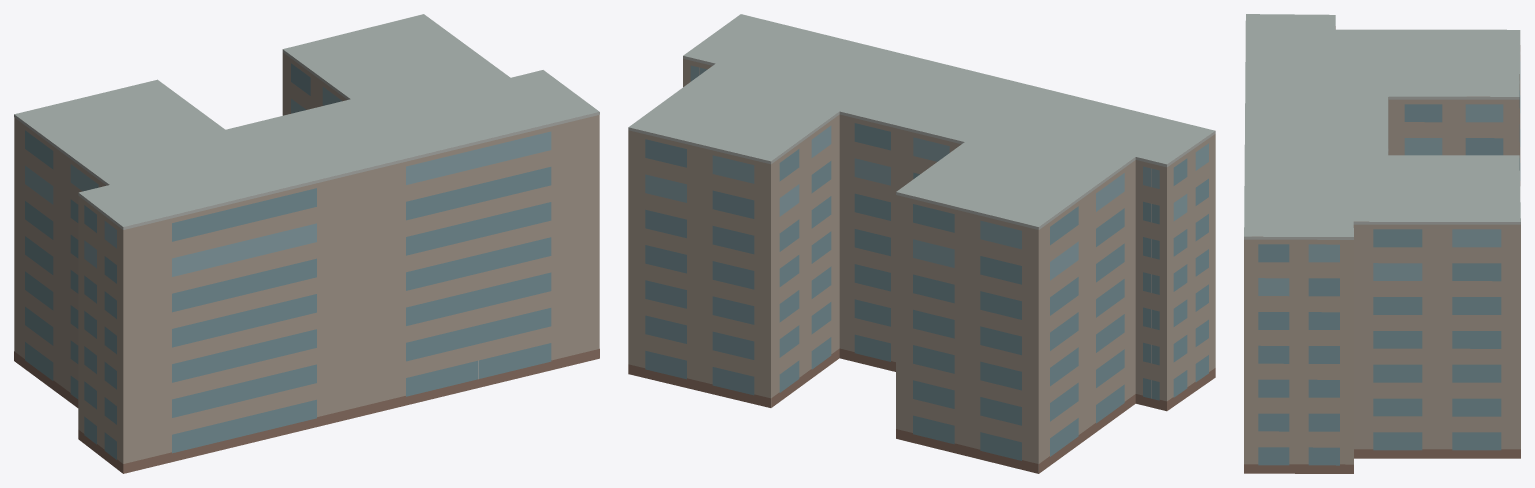
The model's file is survey-upis-32745602.glb.
The picture shows the model from 3 angles, left to right: view 1: azimuth 30°, elevation 25°; view 2: azimuth 150°, elevation 25°; view 3: azimuth 270°, elevation 25°; orthographic projection. The views are drawn at different scales.
Visible parts, largest first — view 1: survey-upis-32745602.tmp; view 2: survey-upis-32745602.tmp; view 3: survey-upis-32745602.tmp.
Boxes of the visible parts, x1,y1,x2,y2 form: survey-upis-32745602.tmp: (14,14,599,473); survey-upis-32745602.tmp: (628,14,1215,473); survey-upis-32745602.tmp: (1244,14,1520,473).
Bounding box in the file's own units: 40.8 × 20.2 × 21.41.
